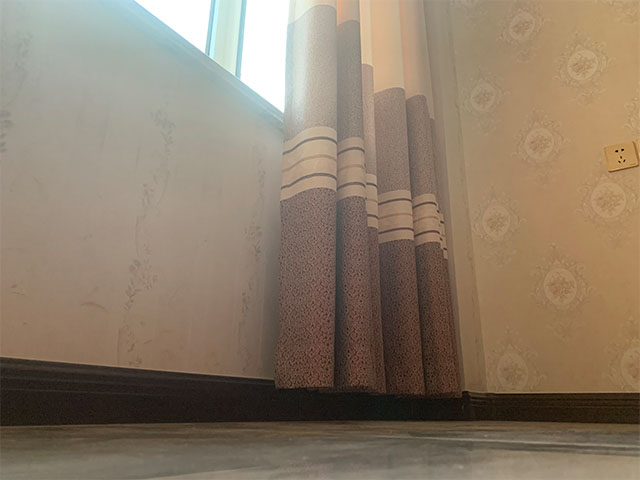curtain: (274, 1, 464, 399)
